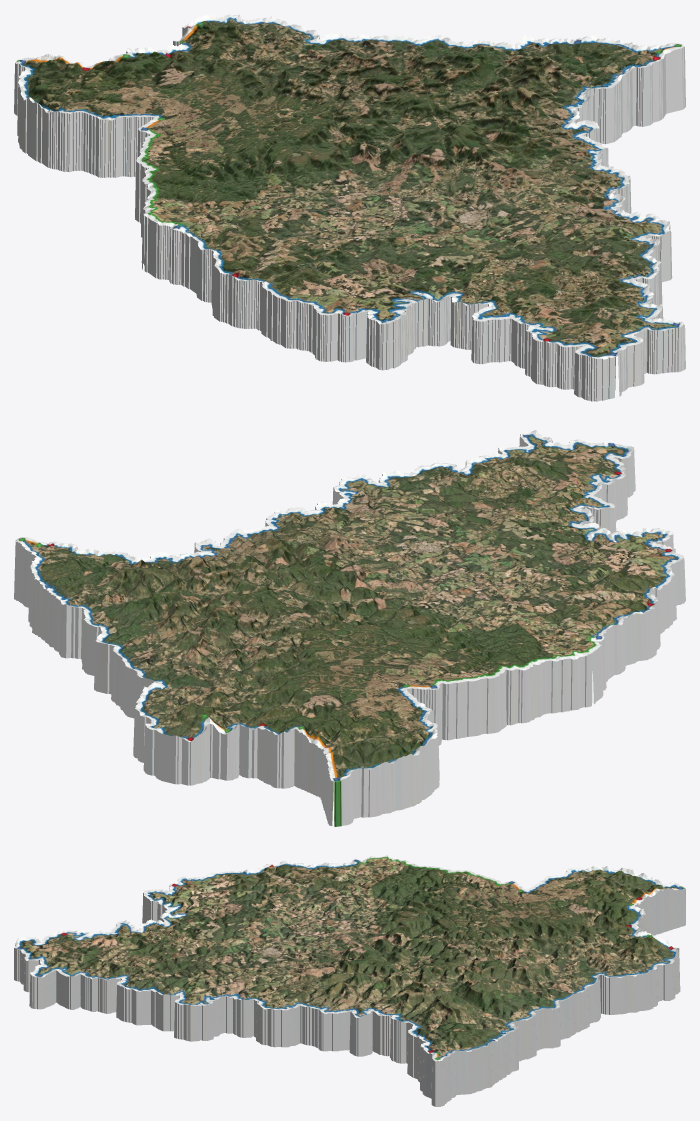
The picture shows the model from 3 angles, top to bottom: view 1: azimuth 30°, elevation 25°; view 2: azimuth 150°, elevation 25°; view 3: azimuth 270°, elevation 25°; orthographic projection. The views are drawn at different scales.
Size of the model in its own units: 1 by 0.114 by 1.35.
Materials: 1 (1 with a texture image).
